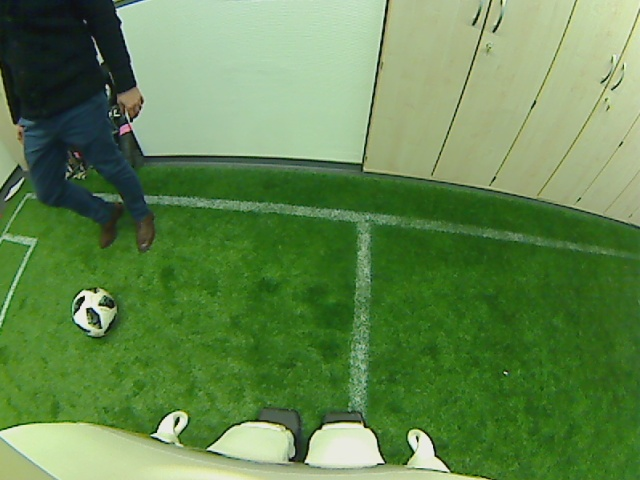ball: (69, 285, 118, 339)
